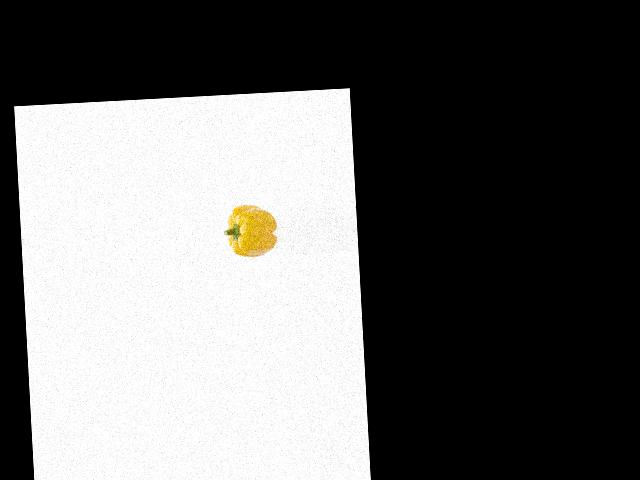bell_pepper: (220, 199, 279, 258)
